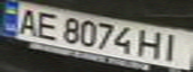0: (78, 18, 96, 47)
4: (112, 24, 139, 55)
7: (93, 20, 118, 52)
8: (57, 15, 81, 46)
A: (12, 6, 42, 35)
E: (33, 10, 63, 40)
H: (136, 28, 166, 60)
I: (157, 32, 190, 62)
